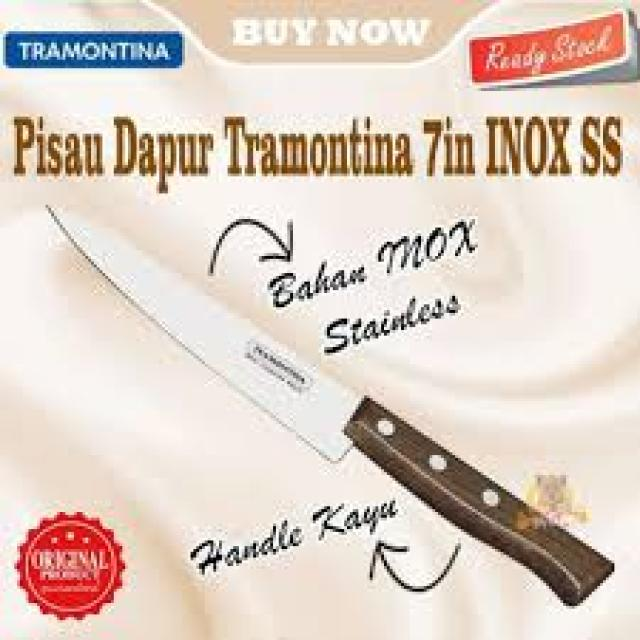Knife: (48, 205, 612, 603)
